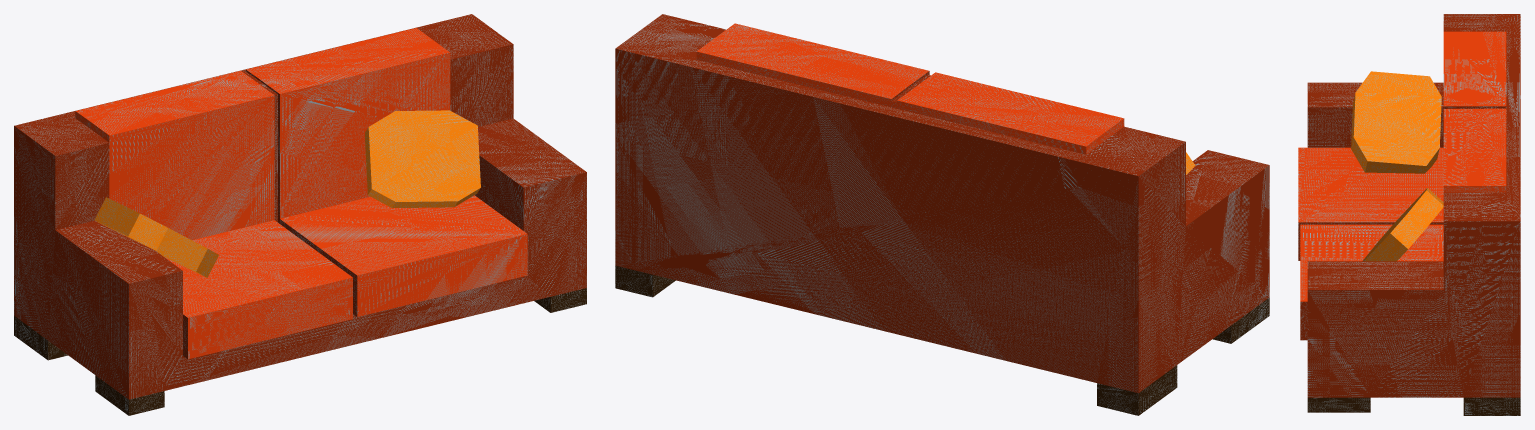
The model's file is couch.dae.
3 views of the same model, side by side, from view 1: azimuth 30°, elevation 25°; view 2: azimuth 150°, elevation 25°; view 3: azimuth 270°, elevation 25° (orthographic). The views are drawn at different scales.
Visible parts, largest first — view 1: Couch (×3), group_0, cushion2; view 2: Couch (×3); view 3: Couch (×3), cushion2, group_0.
Boxes of the visible parts, x1,y1,x2,y2 form: Couch (×3): (14, 14, 586, 415); group_0: (365, 110, 480, 208); cushion2: (94, 197, 218, 277); Couch (×3): (615, 14, 1269, 415); Couch (×3): (1298, 14, 1520, 415); cushion2: (1351, 71, 1441, 173); group_0: (1362, 188, 1443, 261).
Size of the model in its own units: 104 by 47.24 by 47.24.
